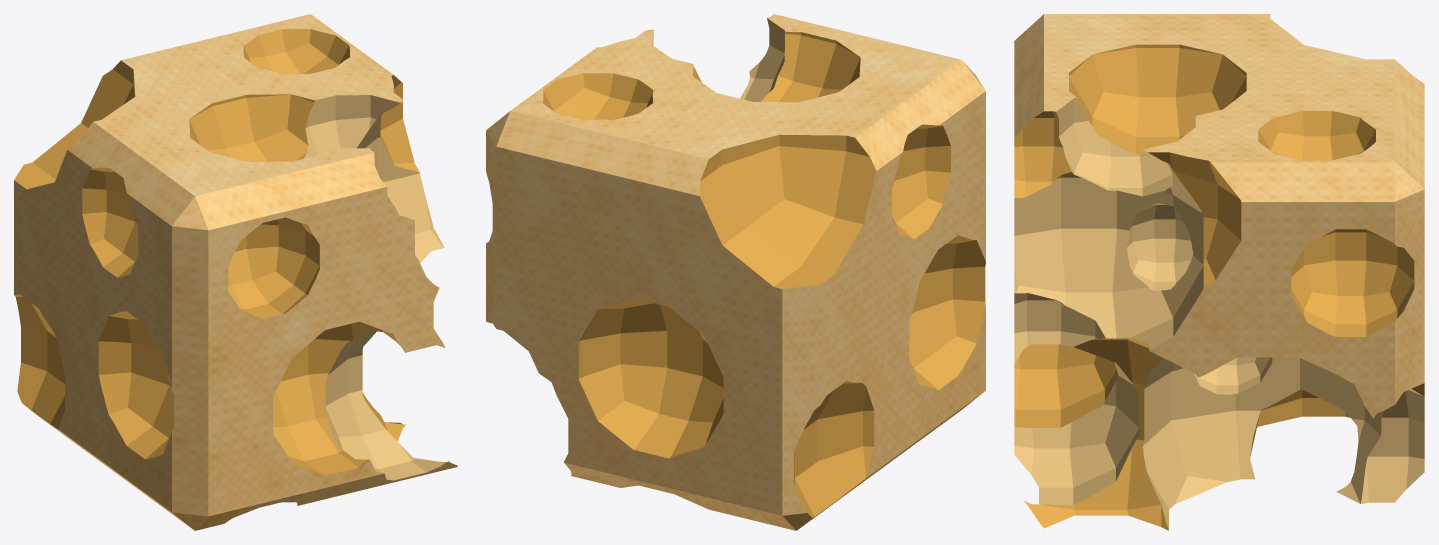
Rendered from cheese_stage2.fbx.
The picture shows the model from 3 angles, left to right: view 1: azimuth 30°, elevation 25°; view 2: azimuth 150°, elevation 25°; view 3: azimuth 270°, elevation 25°; orthographic projection. The views are drawn at different scales.
Visible parts, largest first — view 1: Cheese; view 2: Cheese; view 3: Cheese.
Part boxes in pixels (left/top/right/bottom): Cheese: left=14, top=14, right=457, bottom=530; Cheese: left=486, top=14, right=985, bottom=530; Cheese: left=1014, top=14, right=1424, bottom=530.
Size of the model in its own units: 553 by 553 by 553.
